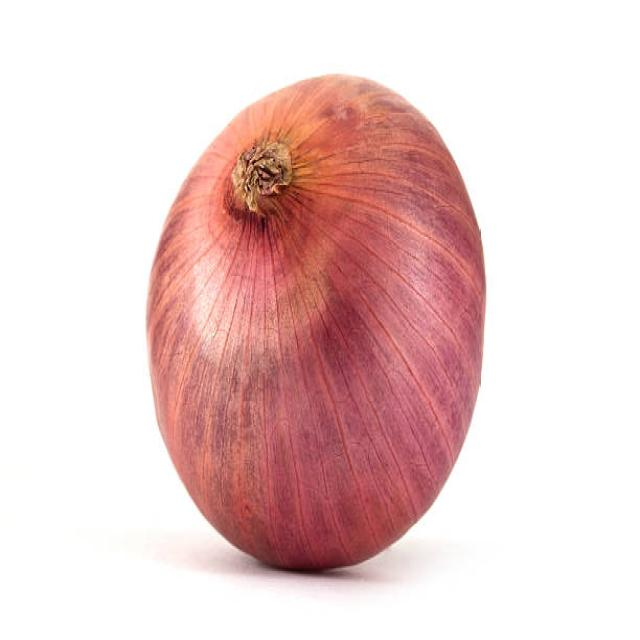onion: (129, 71, 487, 576)
